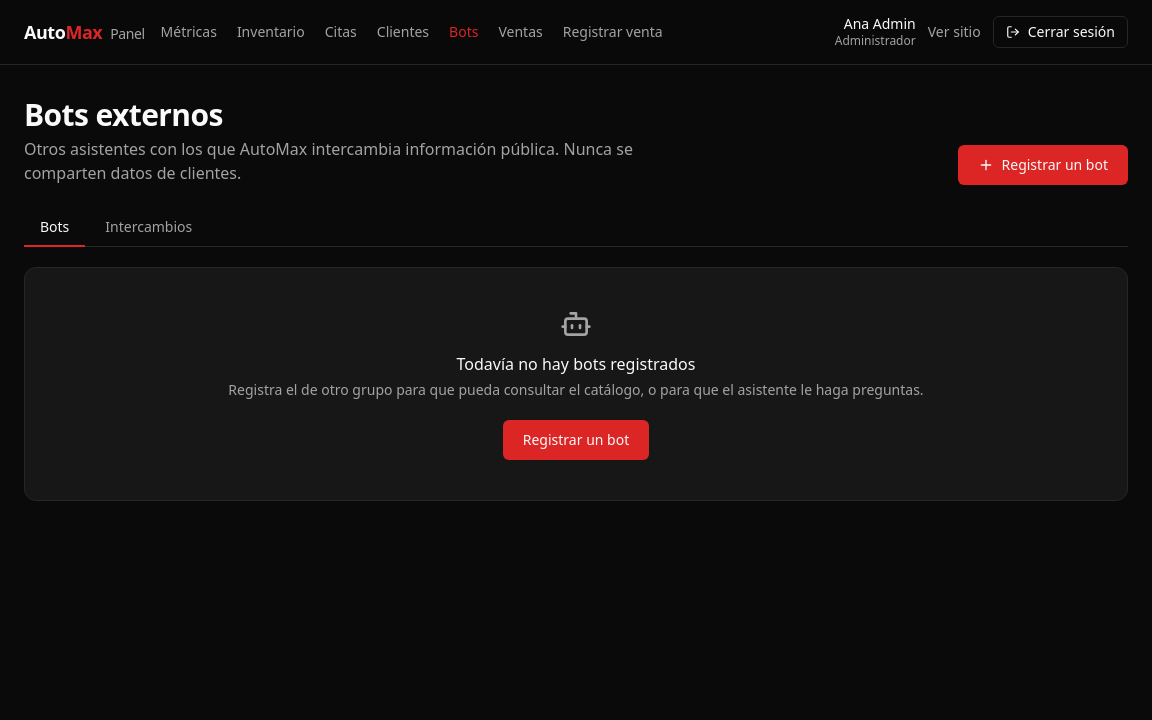
Test: lista de bots › sin bots: invita a registrar el primero
Expected: the text "Todavía no hay bots registrados" is shown, x1=457 y1=353 x2=696 y2=375
Step 1. Click the button "Registrar un bot" below "Todavía no hay bots registrados" → click(576, 440), box x1=503 y1=420 x2=649 y2=460
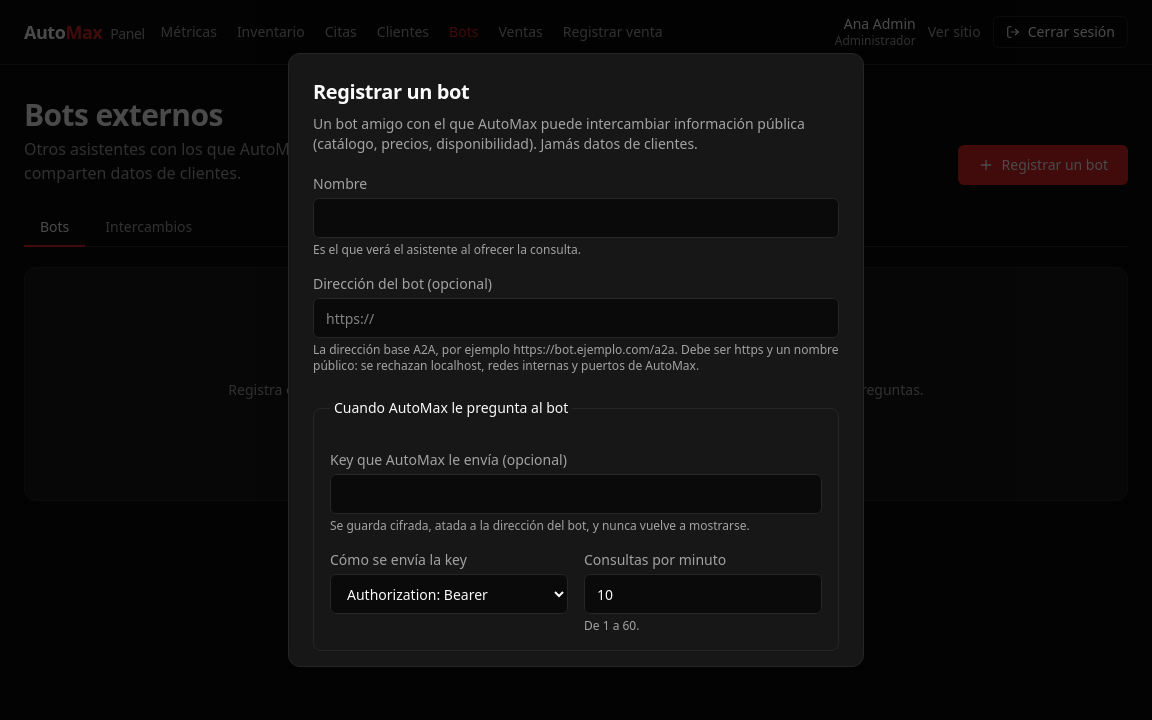
Now the dialog is shown, box x1=288 y1=53 x2=864 y2=667
